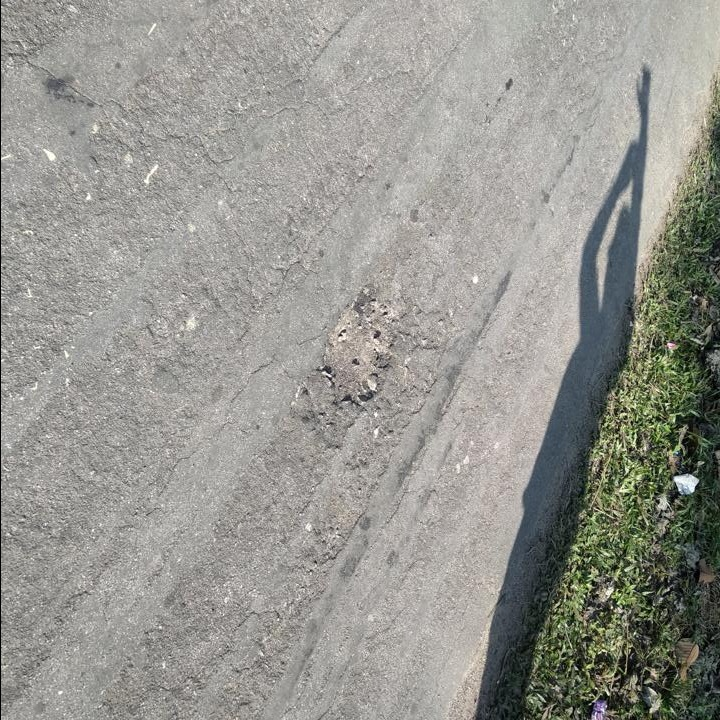pothole: (317, 296, 398, 409)
